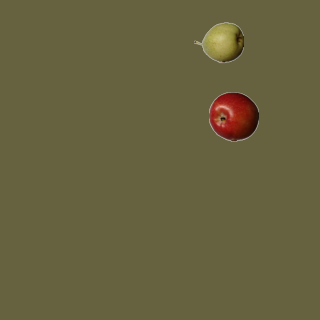Apple Braeburn: (208, 91, 258, 141)
Pear: (193, 17, 243, 67)
